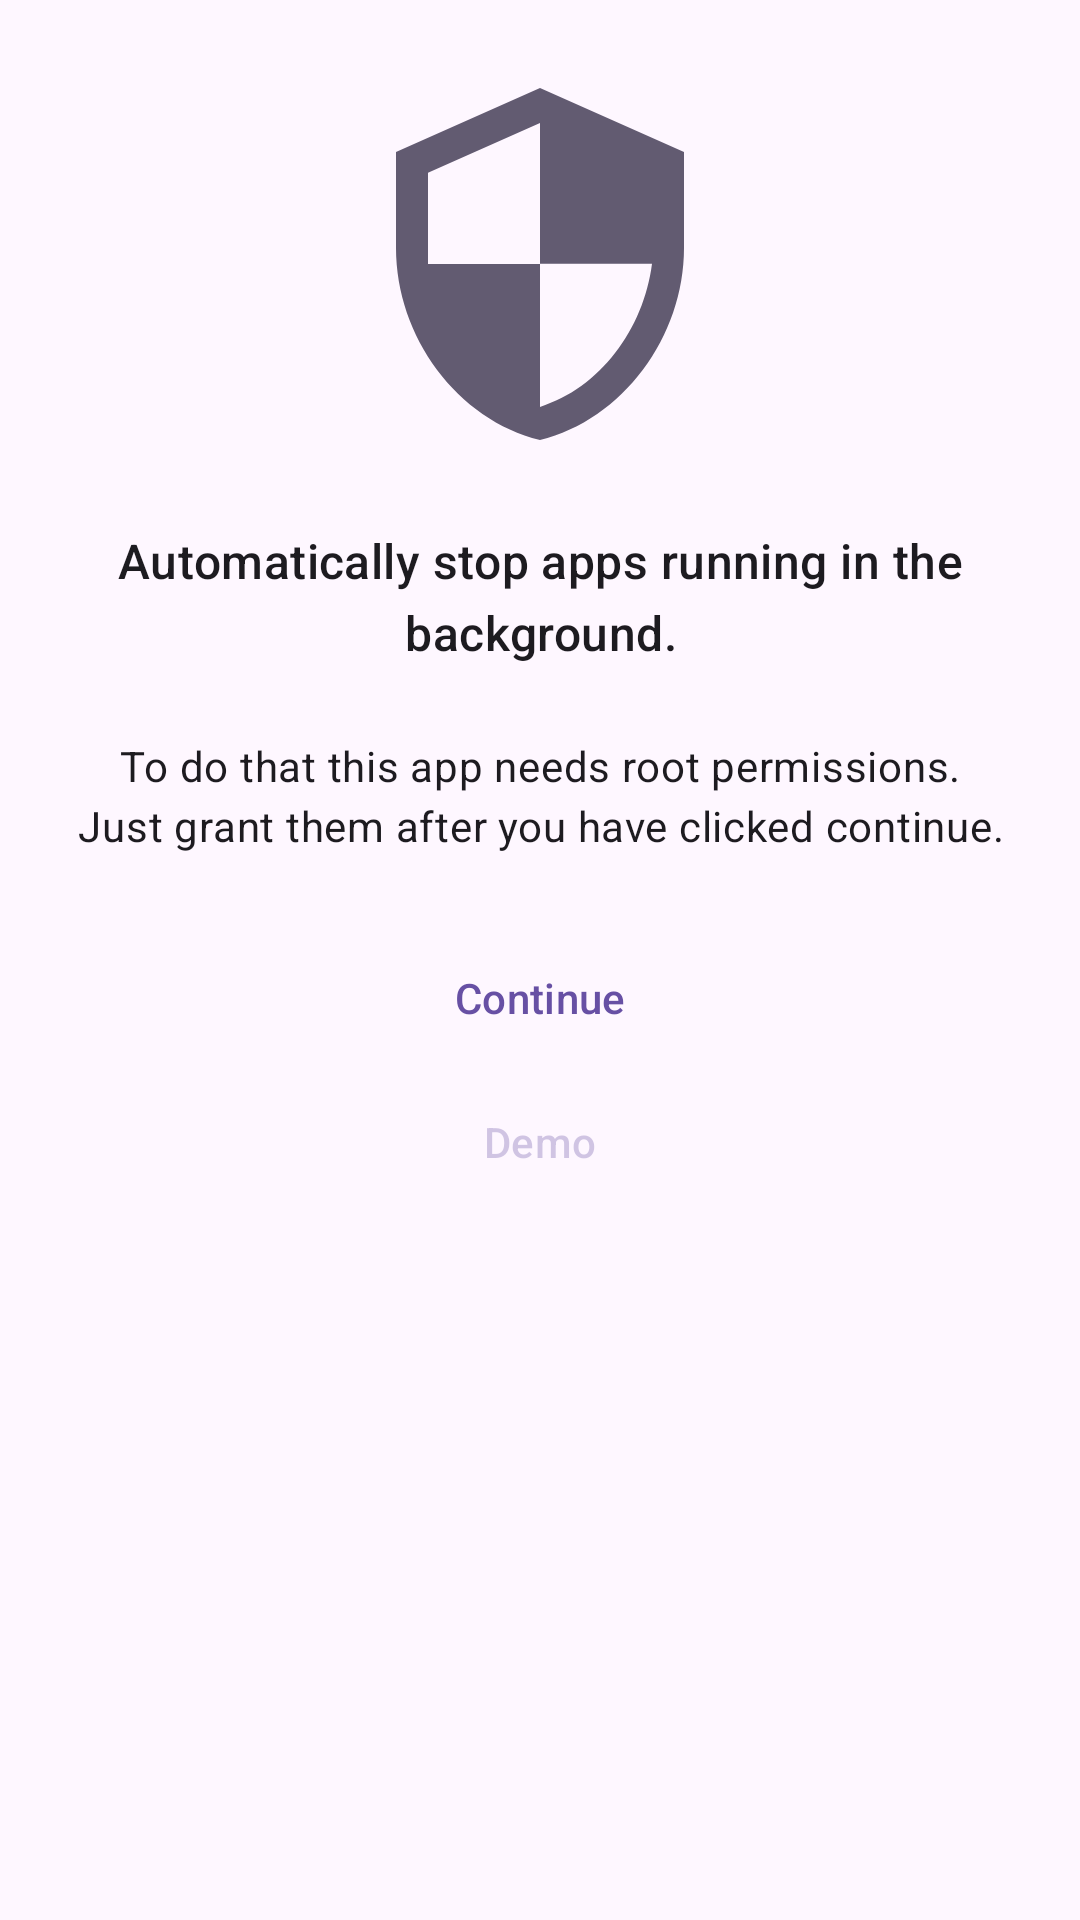

Screen size 1080×1920. Icon name, then its box in pixels as (x1, y1, x2, y2):
Security: (396, 88, 684, 440)
